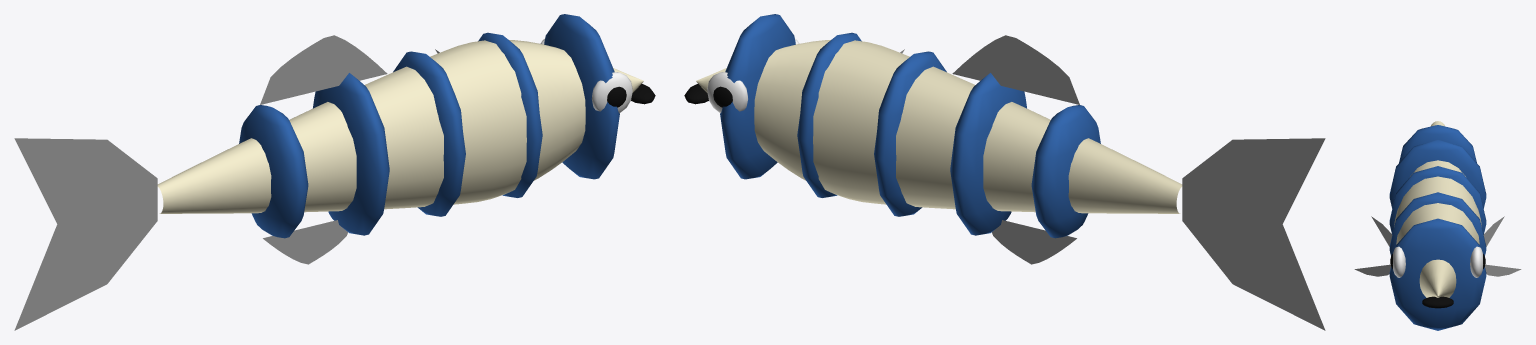
File: zebrafish.glb
3 renders of one model, left to right at view 1: azimuth 30°, elevation 25°; view 2: azimuth 150°, elevation 25°; view 3: azimuth 270°, elevation 25°, orthographic. The views are drawn at different scales.
Visible parts, largest first — view 1: zebrafish; view 2: zebrafish; view 3: zebrafish.
Boxes of the visible parts, bbox=[...] form: zebrafish: bbox=[14, 14, 655, 330]; zebrafish: bbox=[684, 14, 1325, 330]; zebrafish: bbox=[1354, 121, 1521, 330].
Size of the model in its own units: 1.24 by 0.4166 by 0.4055.
